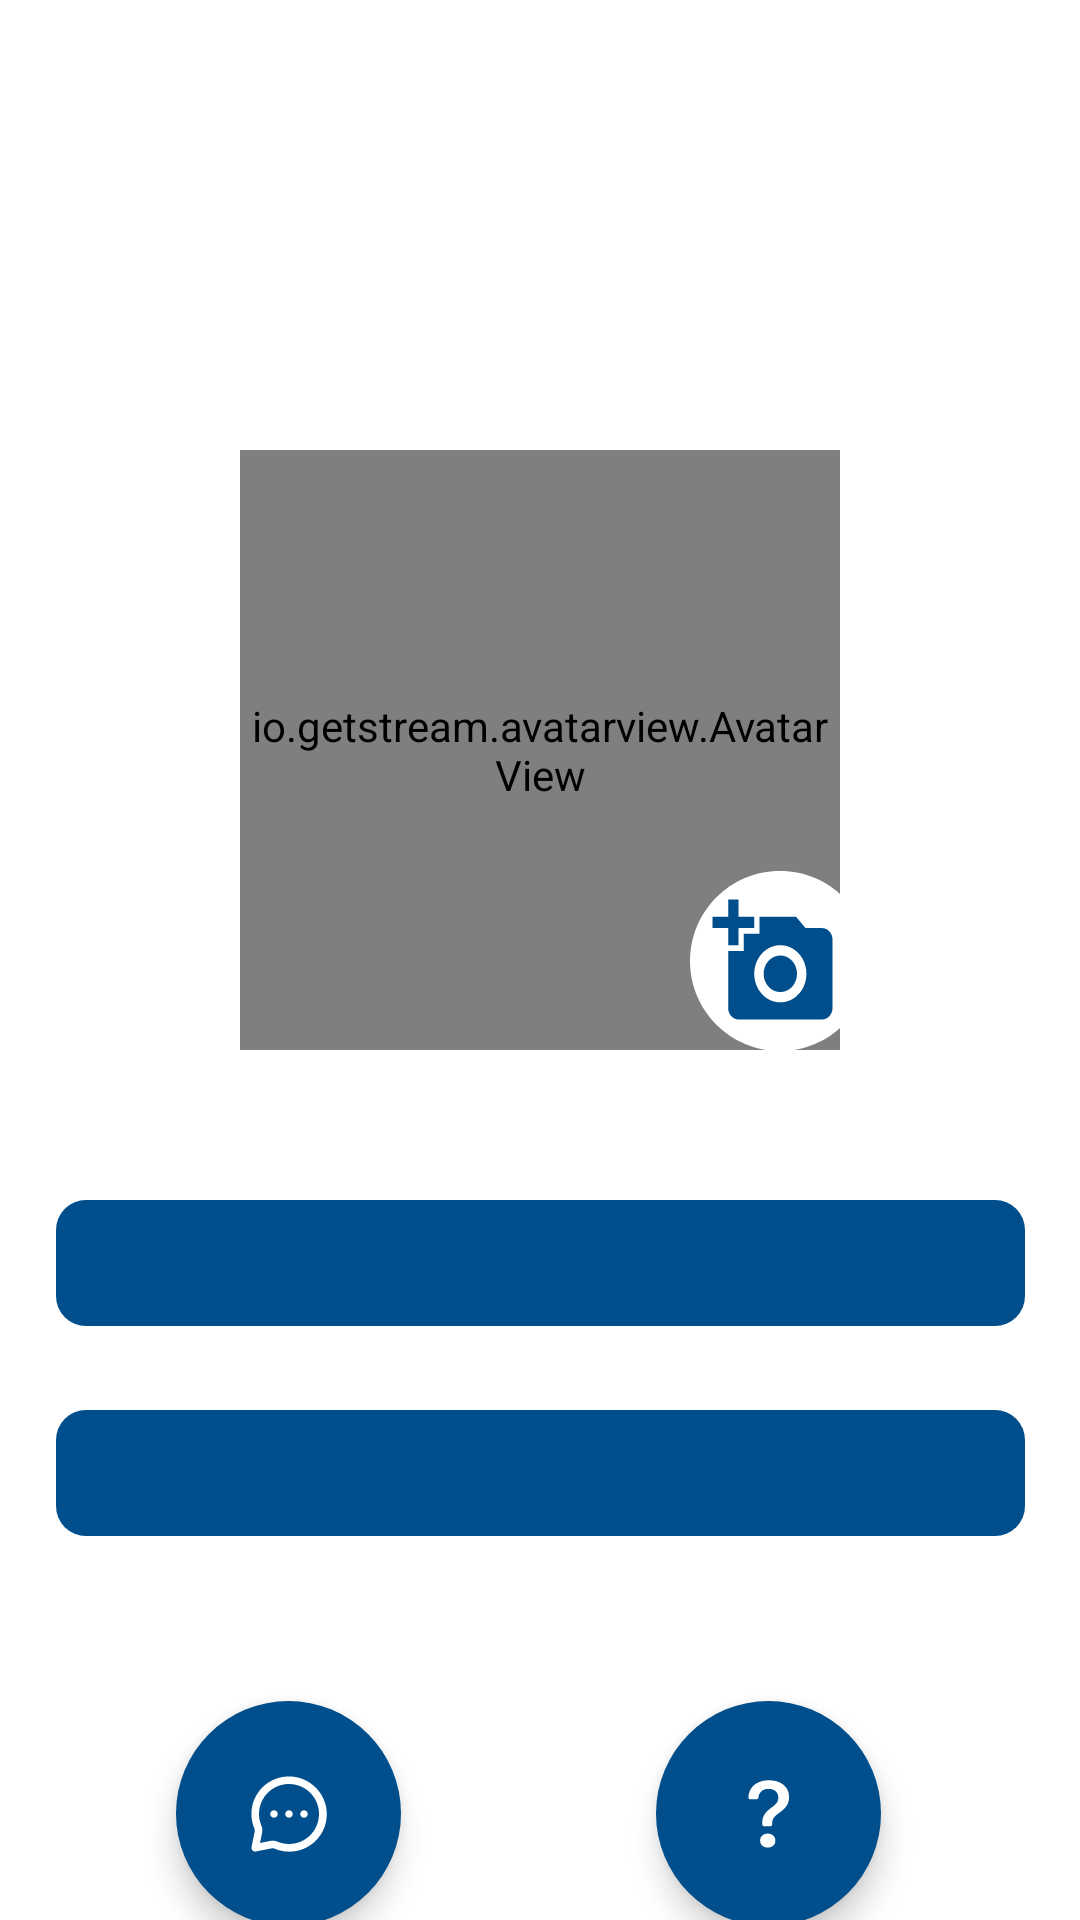

Icons on this 1080px x 1920px Android screen, each with the point to tap as (x=x, y=y):
add: (x=780, y=961)
chat: (x=288, y=1810)
question: (x=768, y=1810)
